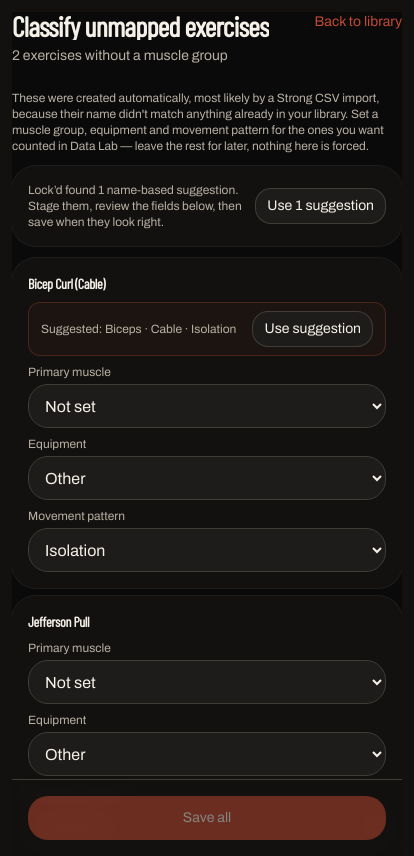
BulkClassifyPage › can stage every available suggestion in one explicit review step
Click the button "Use 1 suggestion".
click(321, 206)  # box [255, 188, 386, 224]
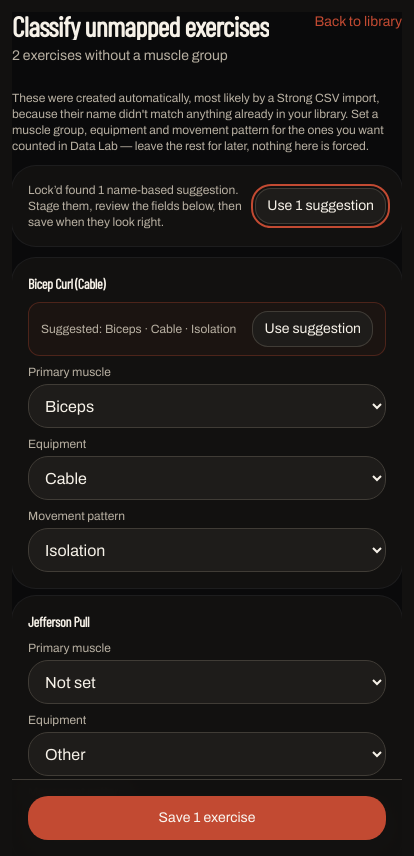
Expected: the dropdown labelled "Primary muscle" below "Jefferson Pull" shows "Not set", [28, 660, 386, 704]
Now the dropdown labelled "Primary muscle" below "Suggested:" shows "Biceps", box [28, 384, 386, 428]
Now the button "Save 1 exercise" is enabled, box [28, 796, 386, 840]
